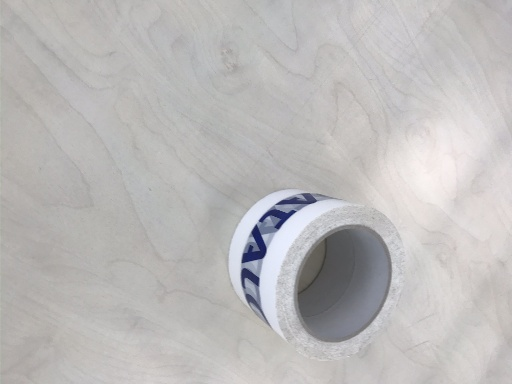Nastro: (229, 187, 411, 359)
